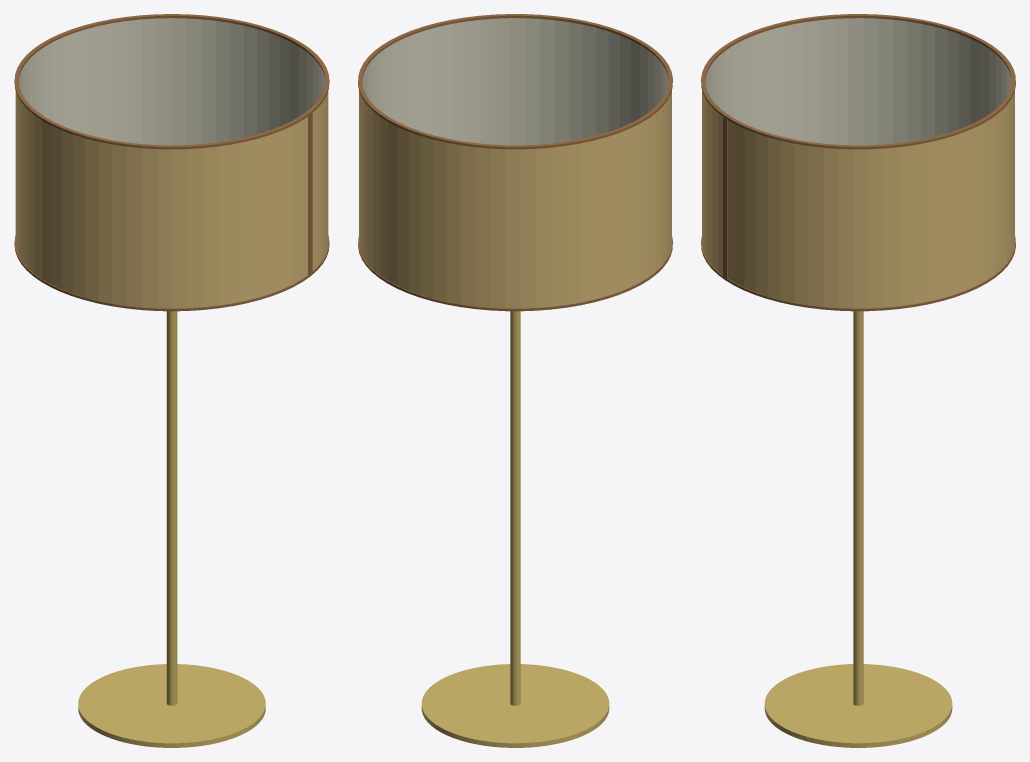
Rendered from lamp_1.glb.
3 renders of one model, left to right at view 1: azimuth 30°, elevation 25°; view 2: azimuth 150°, elevation 25°; view 3: azimuth 270°, elevation 25°, orthographic.
Visible parts, largest first — view 1: Mesh_Mesh_head_geo.001_lambert2SG.001; view 2: Mesh_Mesh_head_geo.001_lambert2SG.001; view 3: Mesh_Mesh_head_geo.001_lambert2SG.001.
Boxes of the visible parts, left/top/right/bottom form: Mesh_Mesh_head_geo.001_lambert2SG.001: left=14, top=14, right=329, bottom=747; Mesh_Mesh_head_geo.001_lambert2SG.001: left=358, top=14, right=672, bottom=747; Mesh_Mesh_head_geo.001_lambert2SG.001: left=701, top=14, right=1015, bottom=747.
Size of the model in its own units: 30 by 66 by 30.
